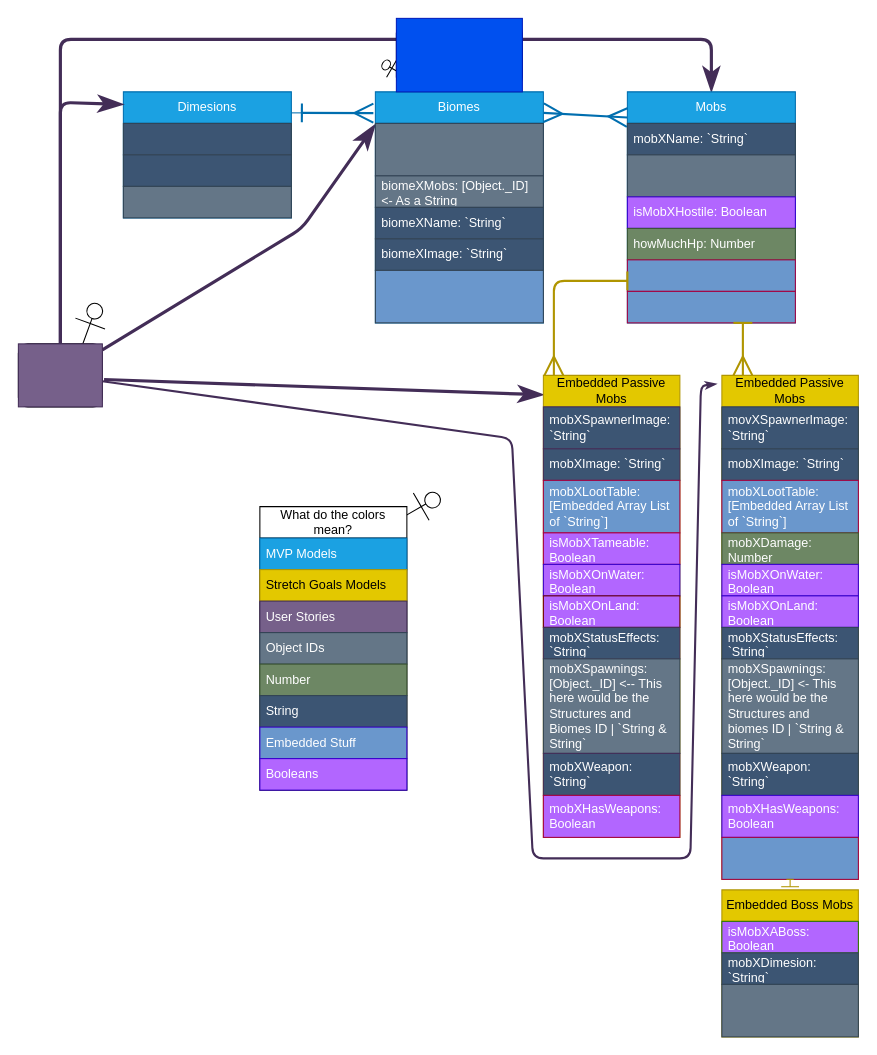
Image size: 877x1055. Some labels were removed from this diagram. The shapes that lost their labels are listed below. From the top down, each one's centre as x and y in pixels, then its label:
At point 458,54: "X = to the next incremented number so it's easier to understand".
At point 206,138: "dimesionXImage: `String`".
At point 458,149: "dimesionBiomeBelongs: [Object._ID] <- Will be a `String` though.".
At point 206,170: "dimesionXName: `String`".
At point 710,175: "biomeMobXBelongs: [Object._ID] <- As a String".
At point 206,201: "dimesionXBiomes: [Object._ID]".
At point 710,275: "passiveMobs: [Embedded Objects]".
At point 458,296: "biomeXStructureNames: [Embedded Array List of `String`]".
At point 710,306: "hostileMobs: [Embedded Objects]".
At point 59,375: "Here users can add more if they'd like".
At point 789,857: "mobXBoss: [Embedded Objects]".
At point 789,1010: "dimesionLocated: [Object._ID] <- Will be a `String though`".
